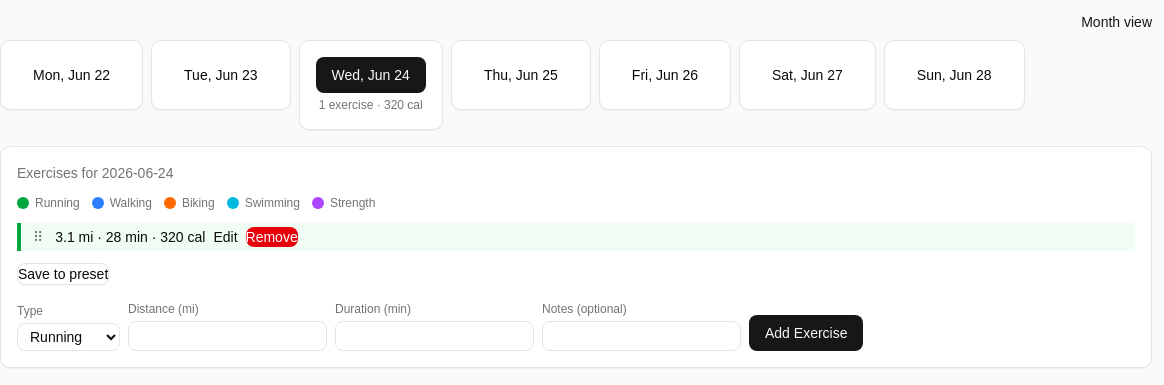
Test: ExerciseCalendarPage › removing an exercise after confirming removes the row
This screenshot has width=1164, height=385.
expect the text "3.1 mi · 28 min · 320 cal" is shown: met, box x1=55 y1=227 x2=206 y2=247
Click the button "Remove".
click(272, 237)  # box x1=246 y1=227 x2=298 y2=247
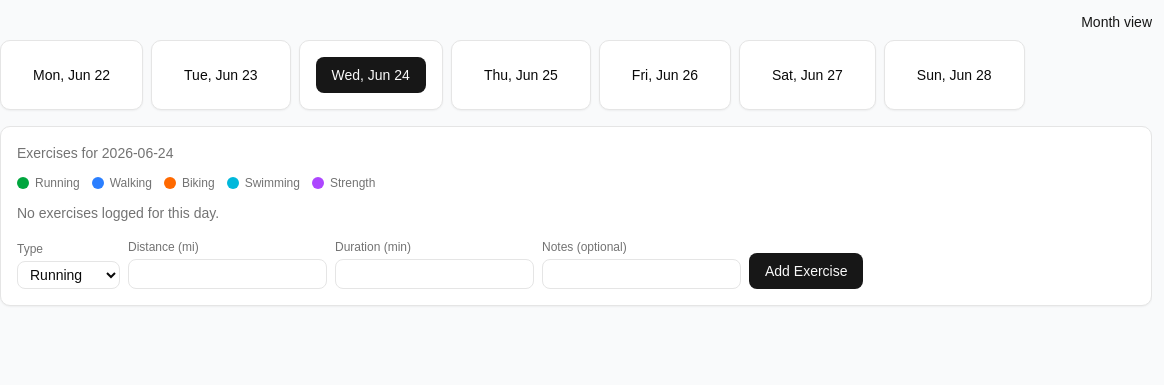
expect the text "No exercises logged for this day." is shown: met, box x1=17 y1=205 x2=219 y2=221
